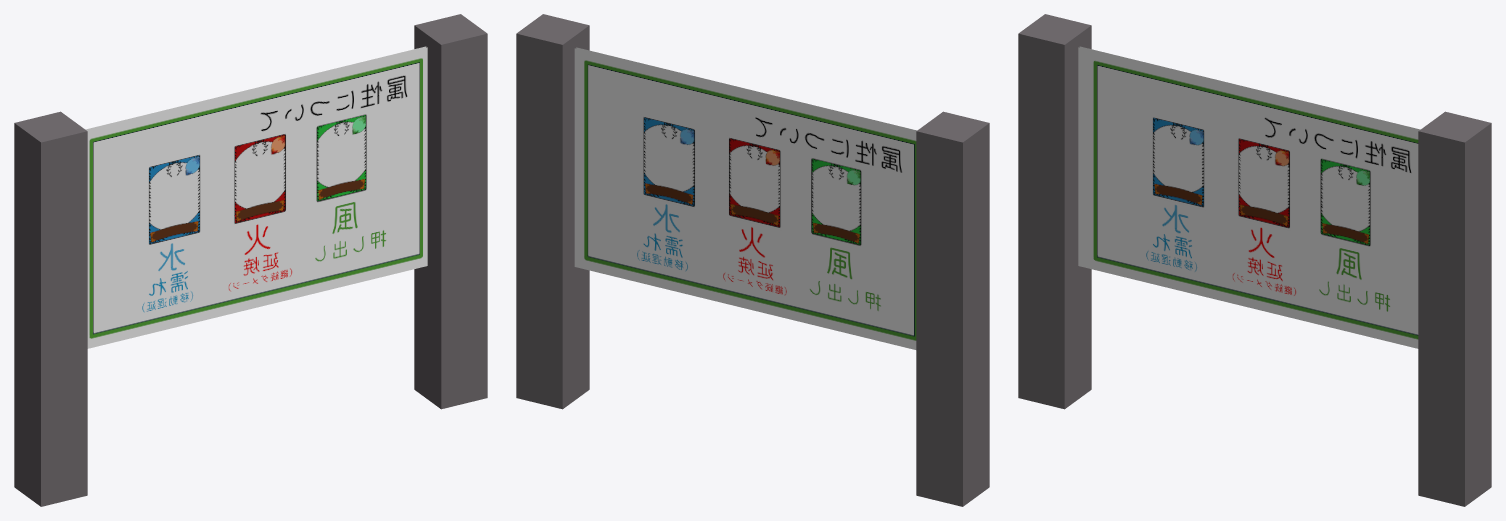
File: signboard_05.obj
The picture shows the model from 3 angles, left to right: view 1: azimuth 30°, elevation 25°; view 2: azimuth 150°, elevation 25°; view 3: azimuth 330°, elevation 25°; orthographic projection.
Visible parts, largest first — view 1: signboard_05:pPlane1group1, signboard_05:group1pCube1, signboard_05:group1pCube2, signboard_05:group1pPlane2; view 2: signboard_05:group1pPlane2, signboard_05:group1pCube1, signboard_05:group1pCube2, signboard_05:pPlane1group1; view 3: signboard_05:pPlane1group1, signboard_05:group1pCube2, signboard_05:group1pCube1, signboard_05:group1pPlane2.
Boxes of the visible parts, box(x1,y1,x2,y2) form: signboard_05:pPlane1group1: box(87, 47, 427, 348); signboard_05:group1pCube1: box(14, 111, 87, 506); signboard_05:group1pCube2: box(414, 14, 487, 409); signboard_05:group1pPlane2: box(85, 46, 426, 130); signboard_05:group1pPlane2: box(574, 48, 916, 349); signboard_05:group1pCube1: box(916, 111, 989, 506); signboard_05:group1pCube2: box(516, 14, 589, 409); signboard_05:pPlane1group1: box(576, 47, 916, 131); signboard_05:pPlane1group1: box(1078, 47, 1418, 348); signboard_05:group1pCube2: box(1418, 111, 1491, 506); signboard_05:group1pCube1: box(1018, 14, 1091, 409); signboard_05:group1pPlane2: box(1079, 46, 1420, 130).
Size of the model in its own units: 1.92 by 1.5 by 0.2.
2 materials, 2 textured.
